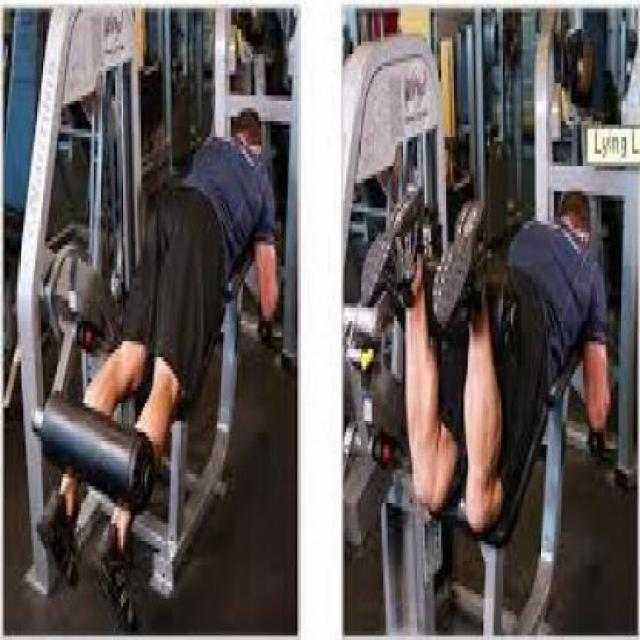reg curl machine: (338, 38, 618, 640), (19, 6, 283, 622)
